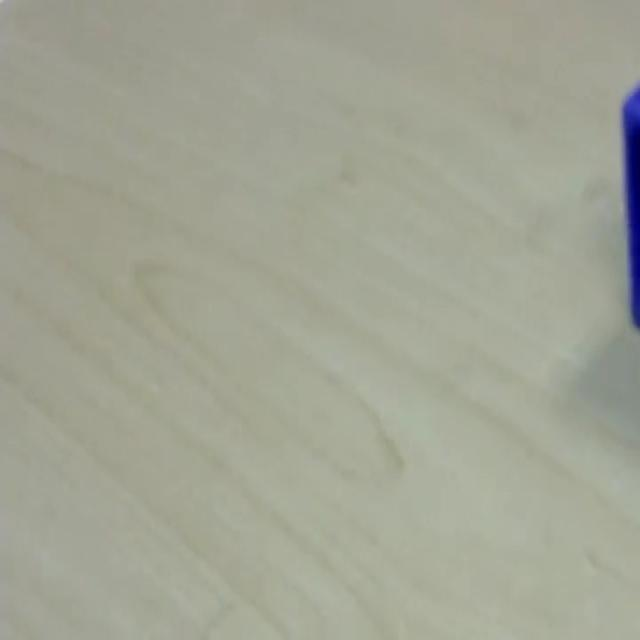blue_block: (620, 80, 639, 328)
